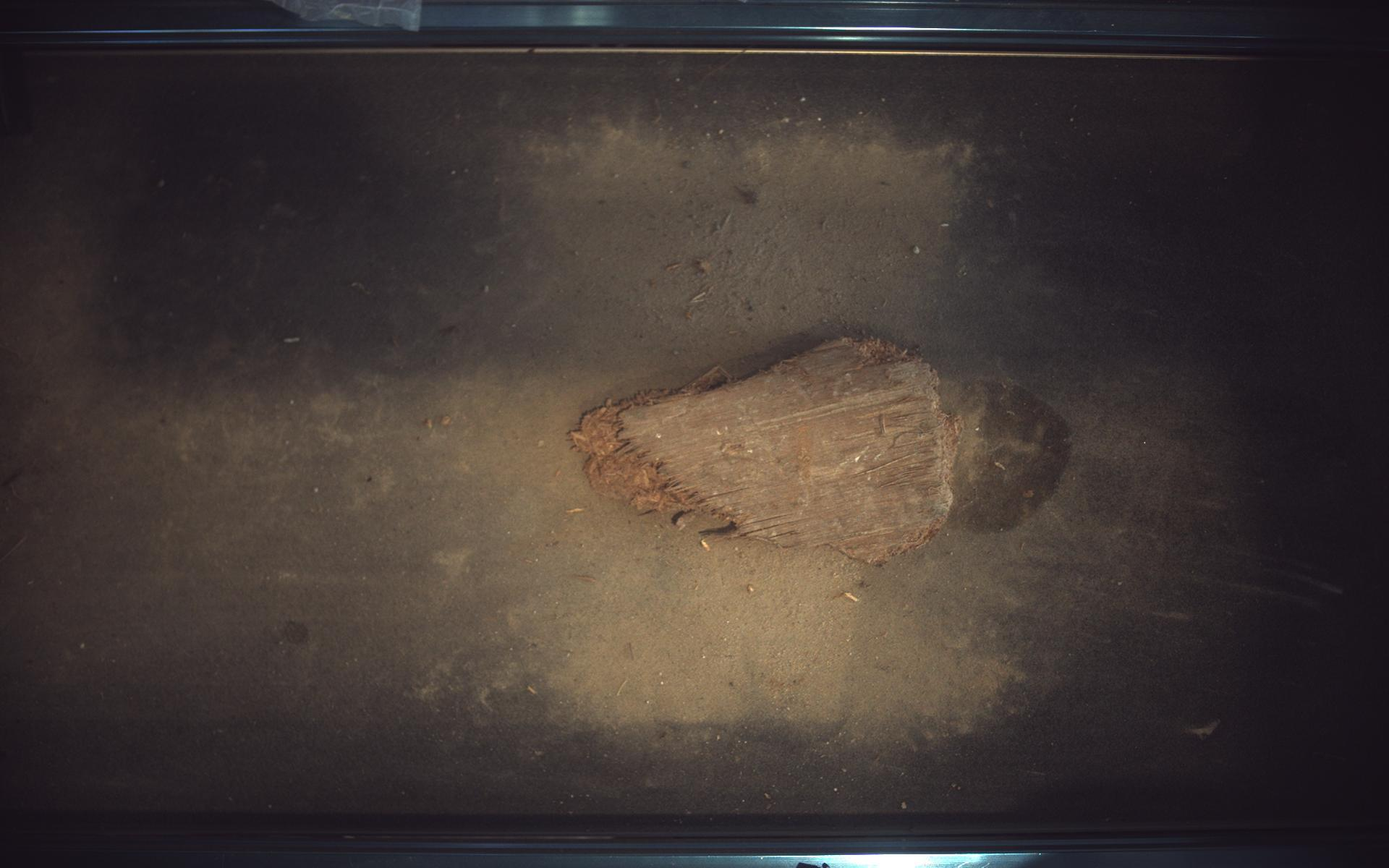wood: (571, 338, 961, 563)
